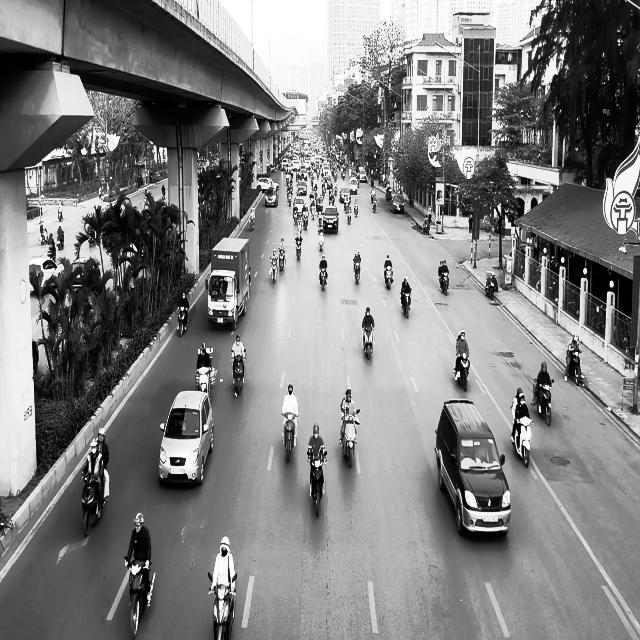car: (435, 398, 511, 537), (159, 389, 214, 486), (29, 257, 64, 295), (323, 205, 339, 234), (391, 194, 405, 213), (340, 186, 351, 203)
motorbike: (124, 556, 156, 639), (208, 572, 237, 639), (81, 468, 107, 537), (308, 448, 328, 517), (511, 411, 534, 467), (340, 408, 360, 468), (531, 378, 555, 426), (282, 411, 298, 463), (564, 350, 586, 387), (232, 348, 246, 398), (454, 353, 470, 391), (362, 323, 376, 360), (177, 306, 189, 337), (485, 270, 498, 298), (401, 288, 412, 319), (439, 269, 449, 295), (384, 266, 394, 289), (319, 265, 328, 290), (354, 258, 362, 284), (270, 258, 278, 284), (295, 235, 303, 260), (278, 250, 286, 271), (318, 227, 325, 250), (371, 194, 378, 212), (423, 216, 430, 234), (347, 206, 352, 224), (354, 201, 359, 217)
truck: (207, 236, 251, 329)
